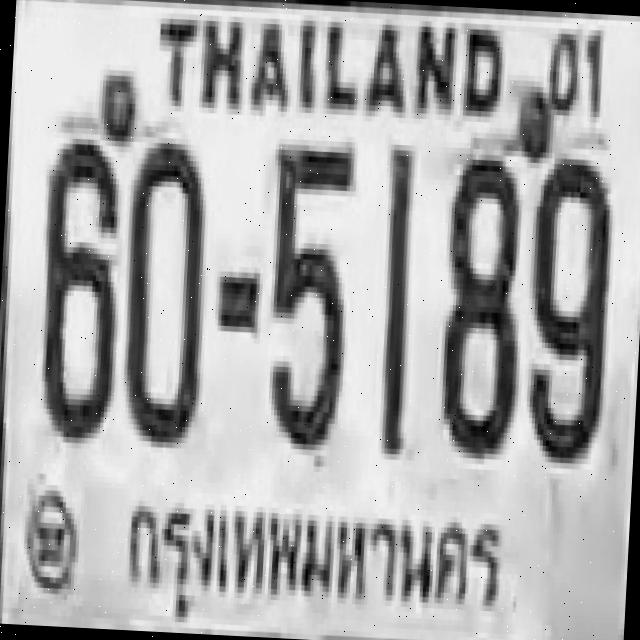0: (120, 137, 212, 444)
1: (374, 139, 418, 455)
5: (260, 136, 356, 449)
6: (35, 133, 126, 440)
8: (436, 148, 524, 455)
9: (520, 153, 612, 460)
Bangkok: (116, 478, 520, 640)
